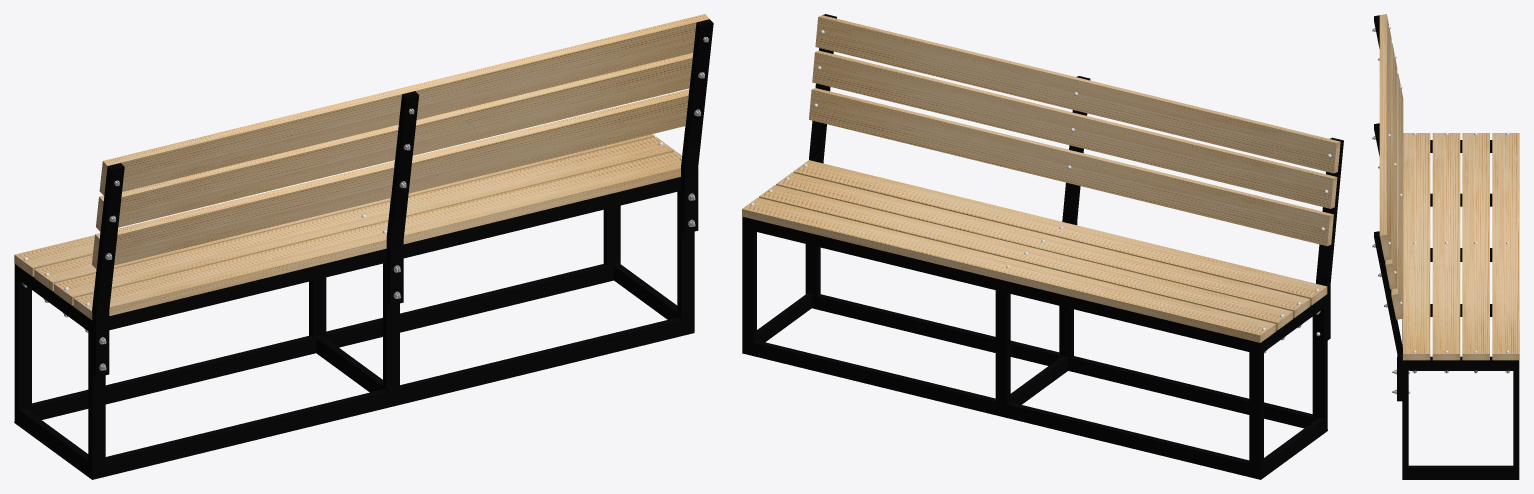
Rendered from Comsepção Final FBX.fbx.
3 renders of one model, left to right at view 1: azimuth 30°, elevation 25°; view 2: azimuth 150°, elevation 25°; view 3: azimuth 270°, elevation 25°, orthographic. The views are drawn at different scales.
Visible parts, largest first — view 1: Cubo_4, Cubo_6, Cubo_5, Cubo, Cubo_1, A, A2, A_1, F_2, F, F_1, Cubo_2 (+13 smaller); view 2: Cubo_4, Cubo_5, Cubo_6, Cubo_3, Cubo_2, Cubo, Cubo_1, A2, A, A2_1, E_1, D_2 (+13 smaller); view 3: Cubo_1, Cubo, Cubo_2, Cubo_3, Cubo_4, Cubo_6, Cubo_5, C_1, C_3, F_1, D_1, D (+1 smaller).
Boxes of the visible parts, x1,y1,x2,y2 form: Cubo_4: (99,14,709,195); Cubo_6: (92,89,689,269); Cubo_5: (96,53,693,231); Cubo: (73,151,681,319); Cubo_1: (54,137,674,305); A: (105,317,681,474); A2: (25,264,613,418); A_1: (109,177,680,330); F_2: (92,163,124,377); F: (386,91,419,305); F_1: (681,19,713,233); Cubo_2: (34,134,654,291); Cubo_4: (815,15,1340,173); Cubo_5: (812,50,1337,208); Cubo_6: (809,88,1333,246); Cubo_3: (742,197,1276,342); Cubo_2: (759,185,1293,330); Cubo: (793,160,1327,305); Cubo_1: (776,172,1310,317); A2: (753,340,1249,475); A: (812,294,1317,427); A2_1: (753,219,1249,351); E_1: (995,278,1010,416); D_2: (1249,340,1263,478); Cubo_1: (1432,133,1460,360); Cubo: (1402,133,1430,360); Cubo_2: (1462,133,1489,360); Cubo_3: (1492,133,1519,360); Cubo_4: (1379,14,1391,260); Cubo_6: (1391,73,1403,319); Cubo_5: (1385,43,1397,289); C_1: (1408,465,1513,478); C_3: (1408,357,1513,370); F_1: (1374,231,1402,401); D_1: (1513,360,1519,478); D: (1402,360,1408,478).
Size of what is drawn, in the model's own units: 180 by 102 by 50.84.
Materials: 3 (2 with a texture image).
